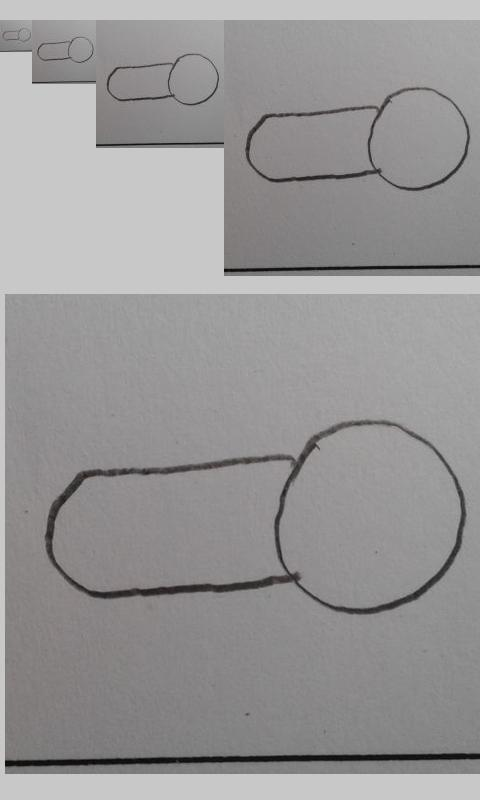switch: (44, 420, 469, 616), (245, 85, 471, 191), (106, 52, 220, 106), (37, 36, 95, 64), (2, 27, 32, 42)
